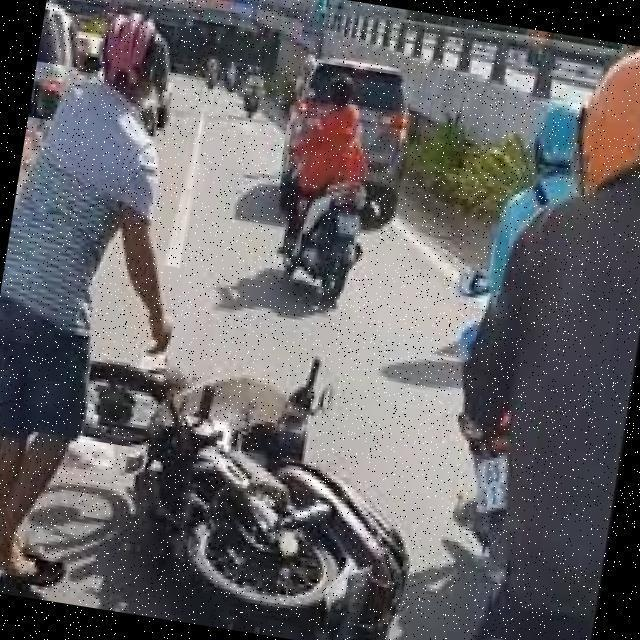accident: (29, 314, 456, 640)
